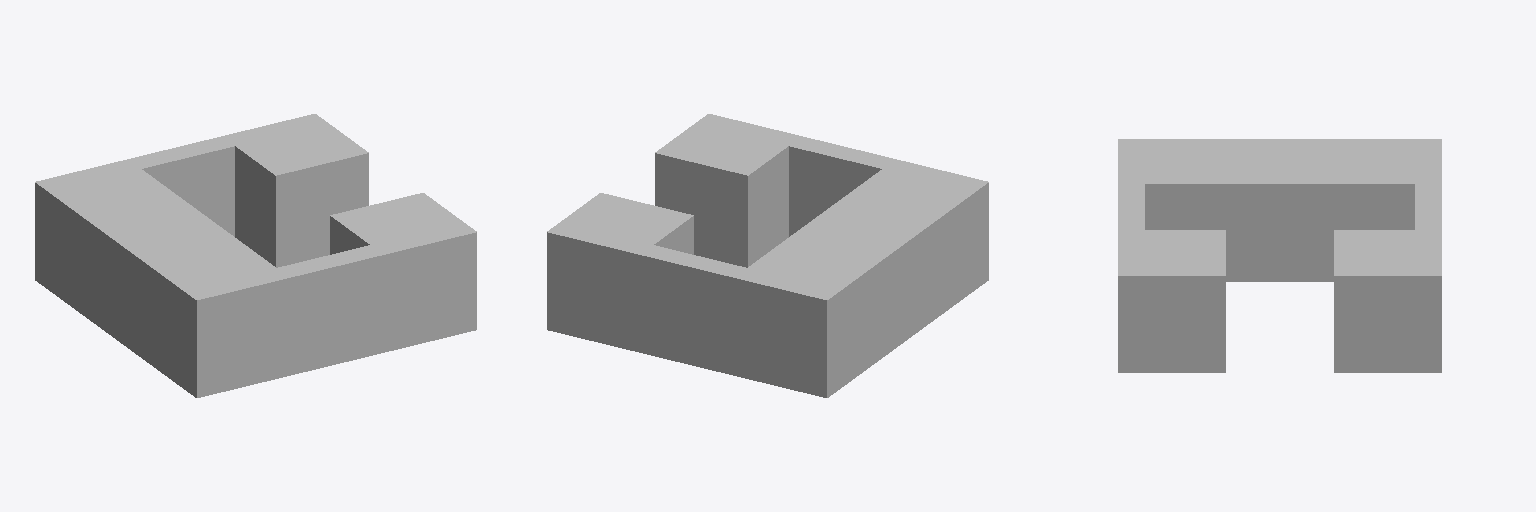
File: EndMaze.obj
3 views of the same model, side by side, from view 1: azimuth 30°, elevation 25°; view 2: azimuth 150°, elevation 25°; view 3: azimuth 270°, elevation 25° (orthographic).
Parts seen in each view (by area): view 1: Cube.004_Cube.010; view 2: Cube.004_Cube.010; view 3: Cube.004_Cube.010.
Part boxes in pixels (x1,y1,x2,y2): Cube.004_Cube.010: (35, 114, 476, 397); Cube.004_Cube.010: (547, 114, 988, 397); Cube.004_Cube.010: (1118, 139, 1441, 372).
Size of the model in its own units: 24 by 8 by 24.